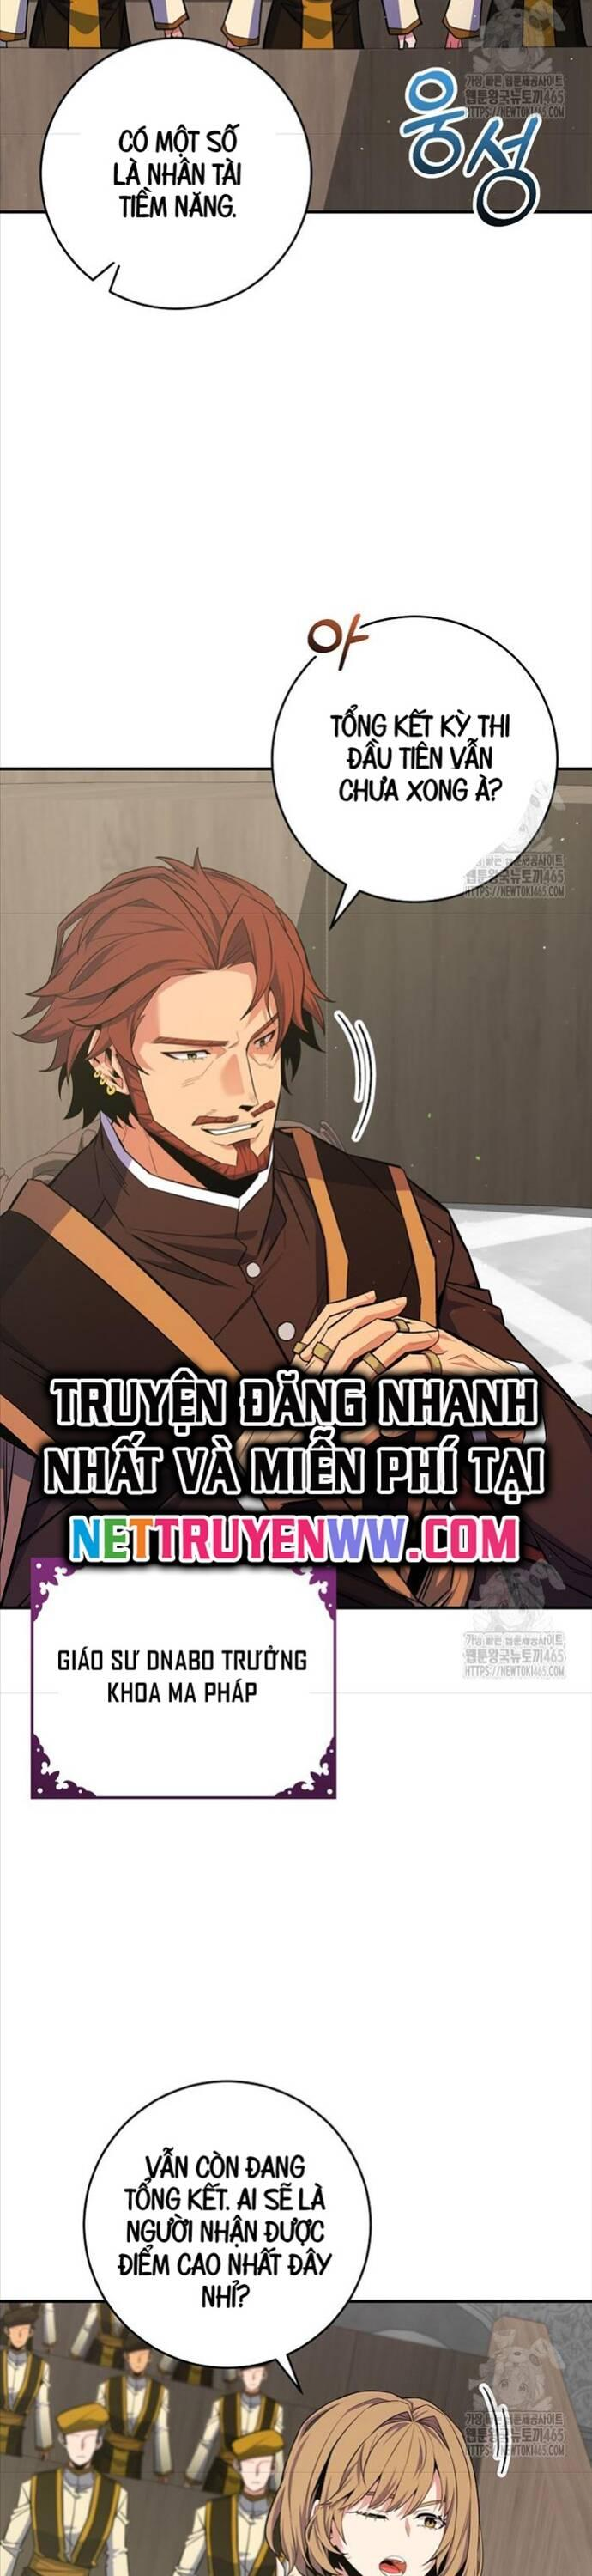quangcao: (48, 1357, 549, 1571)
